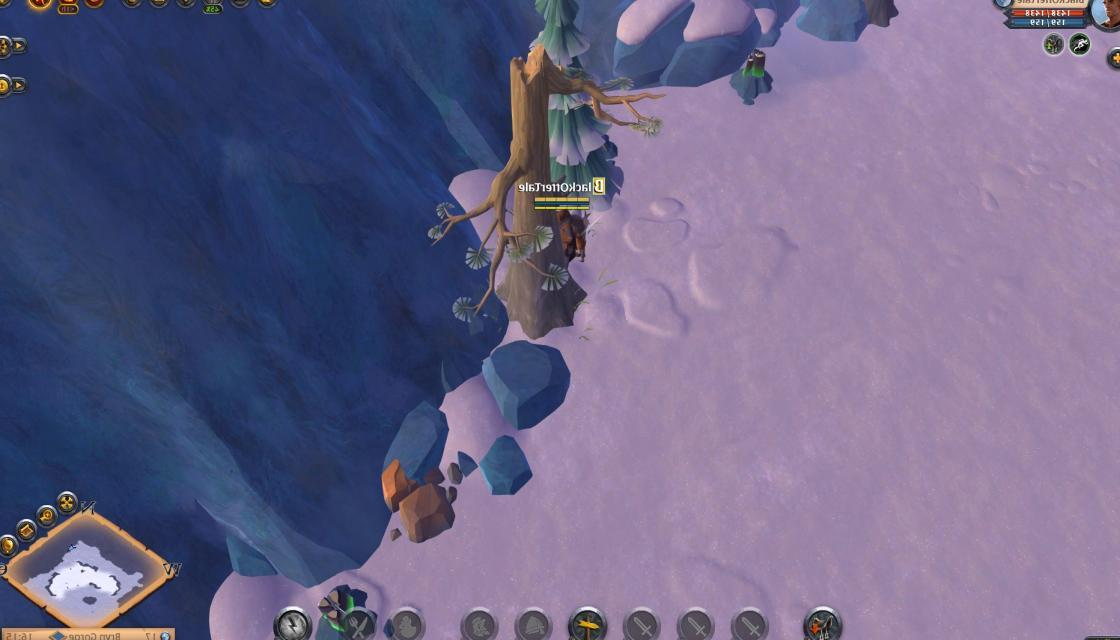limestone: (376, 450, 468, 542)
tinore: (307, 581, 378, 640), (726, 44, 783, 106)
